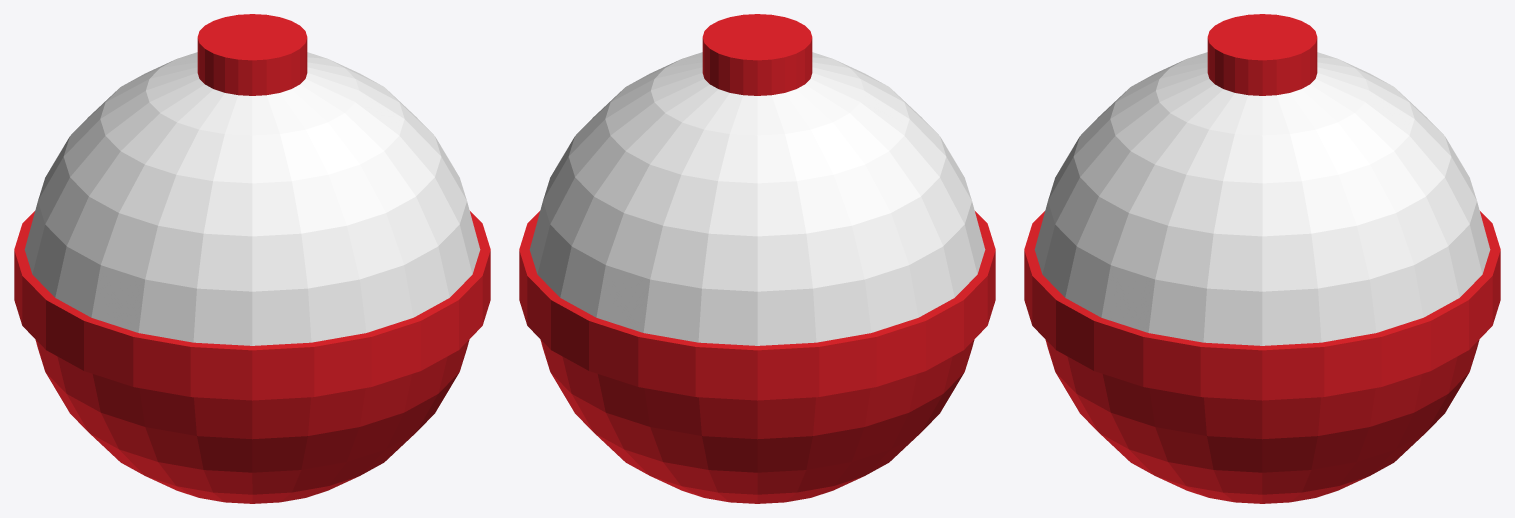
Rendered from bobber.fbx.
3 renders of one model, left to right at view 1: azimuth 30°, elevation 25°; view 2: azimuth 150°, elevation 25°; view 3: azimuth 270°, elevation 25°, orthographic.
Visible parts, largest first — view 1: Sphere; view 2: Sphere; view 3: Sphere.
Boxes of the visible parts, box(x1,y1,x2,y2) form: Sphere: box(14, 14, 490, 503); Sphere: box(519, 14, 995, 503); Sphere: box(1024, 14, 1500, 503).
Bounding box in the file's own units: 13.55 × 13.98 × 13.55.
